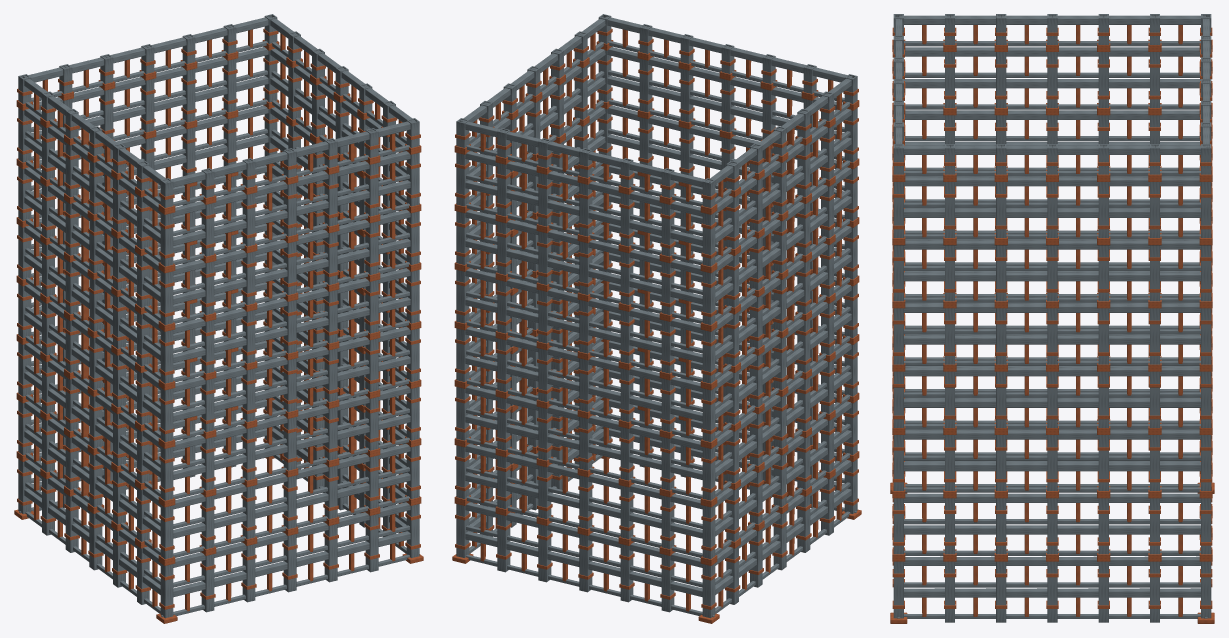
The picture shows the model from 3 angles, left to right: view 1: azimuth 30°, elevation 25°; view 2: azimuth 150°, elevation 25°; view 3: azimuth 270°, elevation 25°; orthographic projection. The views are drawn at different scales.
Visible parts, largest first — view 1: Tier 0 side 0 post 0, Tier 3 side 0 post 0, Tier 5 side 0 post 0, Tier 6 side 0 post 0, Tier 1 side 0 post 0, Tier 2 side 0 post 0, Tier 4 side 0 post 0, Tier 0 side 0 post 1, Tier 0 side 0 post 3, Tier 0 side 0 post 4, Tier 0 side 0 post 5, Tier 0 side 0 post 2 (+40 smaller); view 2: Tier 0 side 3 post 0, Tier 5 side 3 post 0, Tier 6 side 3 post 0, Tier 3 side 3 post 0, Tier 1 side 3 post 0, Tier 4 side 3 post 0, Tier 2 side 3 post 0, Tier 0 side 2 post 5, Tier 0 side 2 post 3, Tier 0 side 2 post 2, Tier 0 side 2 post 1, Tier 0 side 2 post 4 (+40 smaller); view 3: Tier 0 side 1 post 3, Tier 0 side 1 post 2, Tier 0 side 1 post 4, Tier 0 side 1 post 0, Tier 0 side 2 post 0, Tier 1 side 1 post 3, Tier 2 side 1 post 3, Tier 3 side 1 post 3, Tier 4 side 1 post 3, Tier 5 side 1 post 3, Tier 6 side 3 post 3, Tier 0 side 1 post 1 (+42 smaller).
Part boxes in pixels (x1,y1,x2,y2): Tier 0 side 0 post 0: (160,563,173,618); Tier 3 side 0 post 0: (160,388,173,442); Tier 5 side 0 post 0: (160,271,173,324); Tier 6 side 0 post 0: (160,212,173,266); Tier 1 side 0 post 0: (160,505,173,559); Tier 2 side 0 post 0: (160,446,173,500); Tier 4 side 0 post 0: (160,329,173,383); Tier 0 side 0 post 1: (201,554,214,612); Tier 0 side 0 post 3: (283,534,296,592); Tier 0 side 0 post 4: (324,524,337,582); Tier 0 side 0 post 5: (365,514,378,572); Tier 0 side 0 post 2: (242,544,255,602); Tier 0 side 3 post 0: (702,563,715,618); Tier 5 side 3 post 0: (702,271,715,324); Tier 6 side 3 post 0: (702,212,715,266); Tier 3 side 3 post 0: (702,388,715,442); Tier 1 side 3 post 0: (702,505,715,559); Tier 4 side 3 post 0: (702,329,715,383); Tier 2 side 3 post 0: (702,446,715,500); Tier 0 side 2 post 5: (661,554,674,612); Tier 0 side 2 post 3: (579,534,592,592); Tier 0 side 2 post 2: (538,524,551,582); Tier 0 side 2 post 1: (497,514,510,572); Tier 0 side 2 post 4: (620,544,633,602); Tier 0 side 1 post 3: (1047,561,1057,622); Tier 0 side 1 post 2: (996,561,1006,622); Tier 0 side 1 post 4: (1098,561,1108,622); Tier 0 side 1 post 0: (893,561,903,618); Tier 0 side 2 post 0: (1201,561,1211,618); Tier 1 side 1 post 3: (1047,498,1057,554); Tier 2 side 1 post 3: (1047,435,1057,490); Tier 3 side 1 post 3: (1047,371,1057,427); Tier 4 side 1 post 3: (1047,308,1057,364); Tier 5 side 1 post 3: (1047,245,1057,301); Tier 6 side 3 post 3: (1047,52,1057,107); Tier 0 side 1 post 1: (945,561,954,622).
Size of the model in its own units: 2.85 by 4.6 by 2.85.
2 materials, 2 textured.
